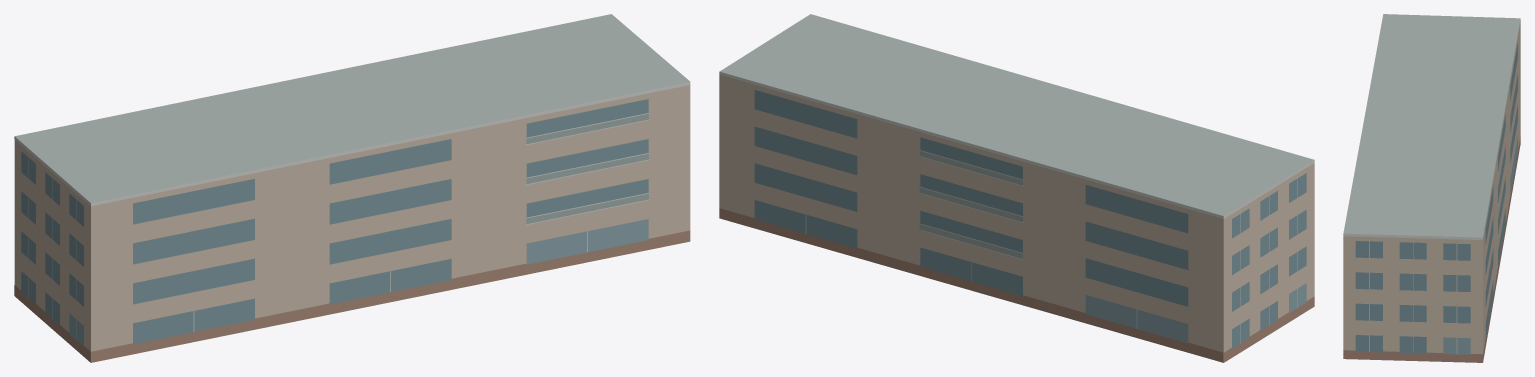
The model's file is survey-upis-32751918.glb.
3 renders of one model, left to right at view 1: azimuth 30°, elevation 25°; view 2: azimuth 150°, elevation 25°; view 3: azimuth 270°, elevation 25°, orthographic. The views are drawn at different scales.
Parts seen in each view (by area): view 1: survey-upis-32751918.tmp; view 2: survey-upis-32751918.tmp; view 3: survey-upis-32751918.tmp.
Part boxes in pixels (left/top/right/bottom): survey-upis-32751918.tmp: left=14, top=14, right=690, bottom=362; survey-upis-32751918.tmp: left=719, top=14, right=1314, bottom=362; survey-upis-32751918.tmp: left=1343, top=14, right=1520, bottom=362.
Size of the model in its own units: 46.68 by 12.2 by 15.65.
